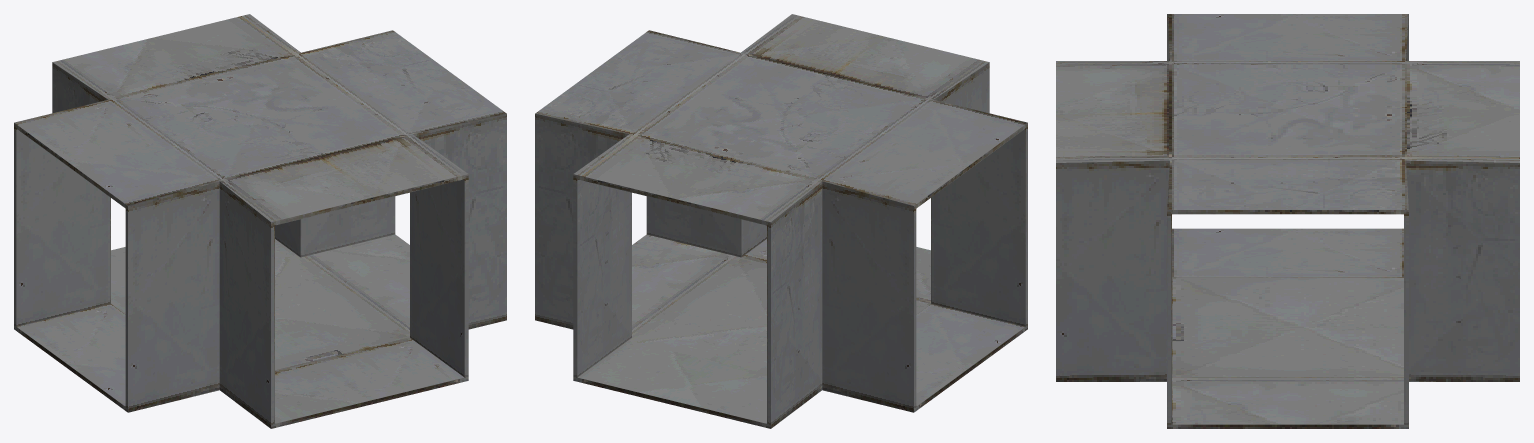
Rendered from duct_intersection_4way.glb.
3 renders of one model, left to right at view 1: azimuth 30°, elevation 25°; view 2: azimuth 150°, elevation 25°; view 3: azimuth 270°, elevation 25°, orthographic. The views are drawn at different scales.
Parts seen in each view (by area): view 1: duct_intersection_4way; view 2: duct_intersection_4way; view 3: duct_intersection_4way.
Part boxes in pixels (x1,y1,x2,y2): duct_intersection_4way: (14, 14, 506, 428); duct_intersection_4way: (535, 14, 1027, 428); duct_intersection_4way: (1056, 14, 1519, 428).
Size of the model in its own units: 2 by 1.05 by 2.
1 material, 1 textured.
